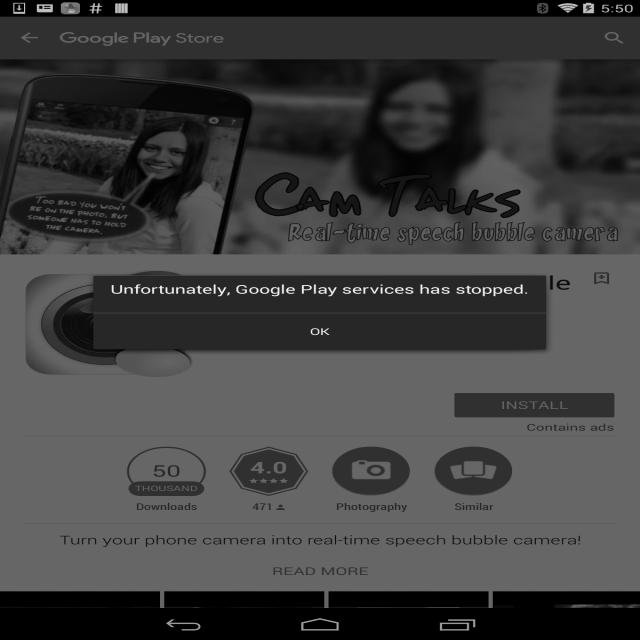Button: (449, 388, 619, 420)
ImageButton: (593, 25, 627, 50), (14, 30, 48, 48)
ImageView: (7, 63, 615, 246), (106, 442, 218, 494), (439, 450, 522, 494), (230, 444, 302, 493), (335, 450, 414, 494)
TextView: (102, 280, 529, 306), (54, 530, 592, 550), (62, 29, 225, 48), (268, 561, 372, 580), (302, 322, 340, 338)
